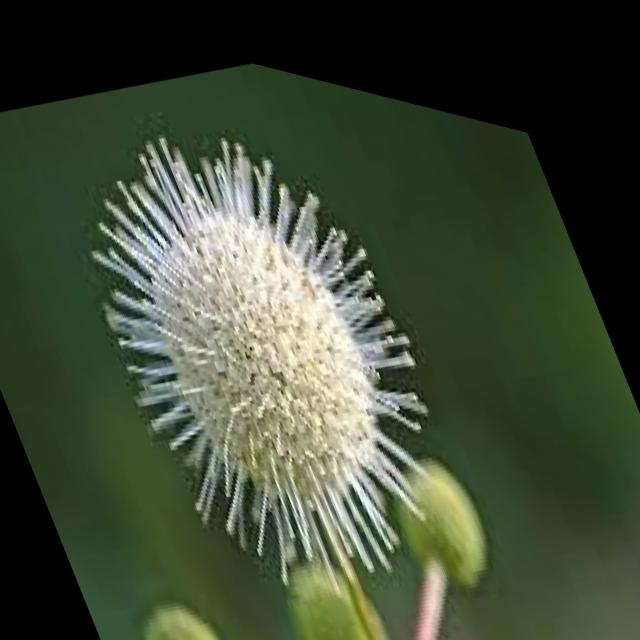Flower: (46, 49, 493, 640)
